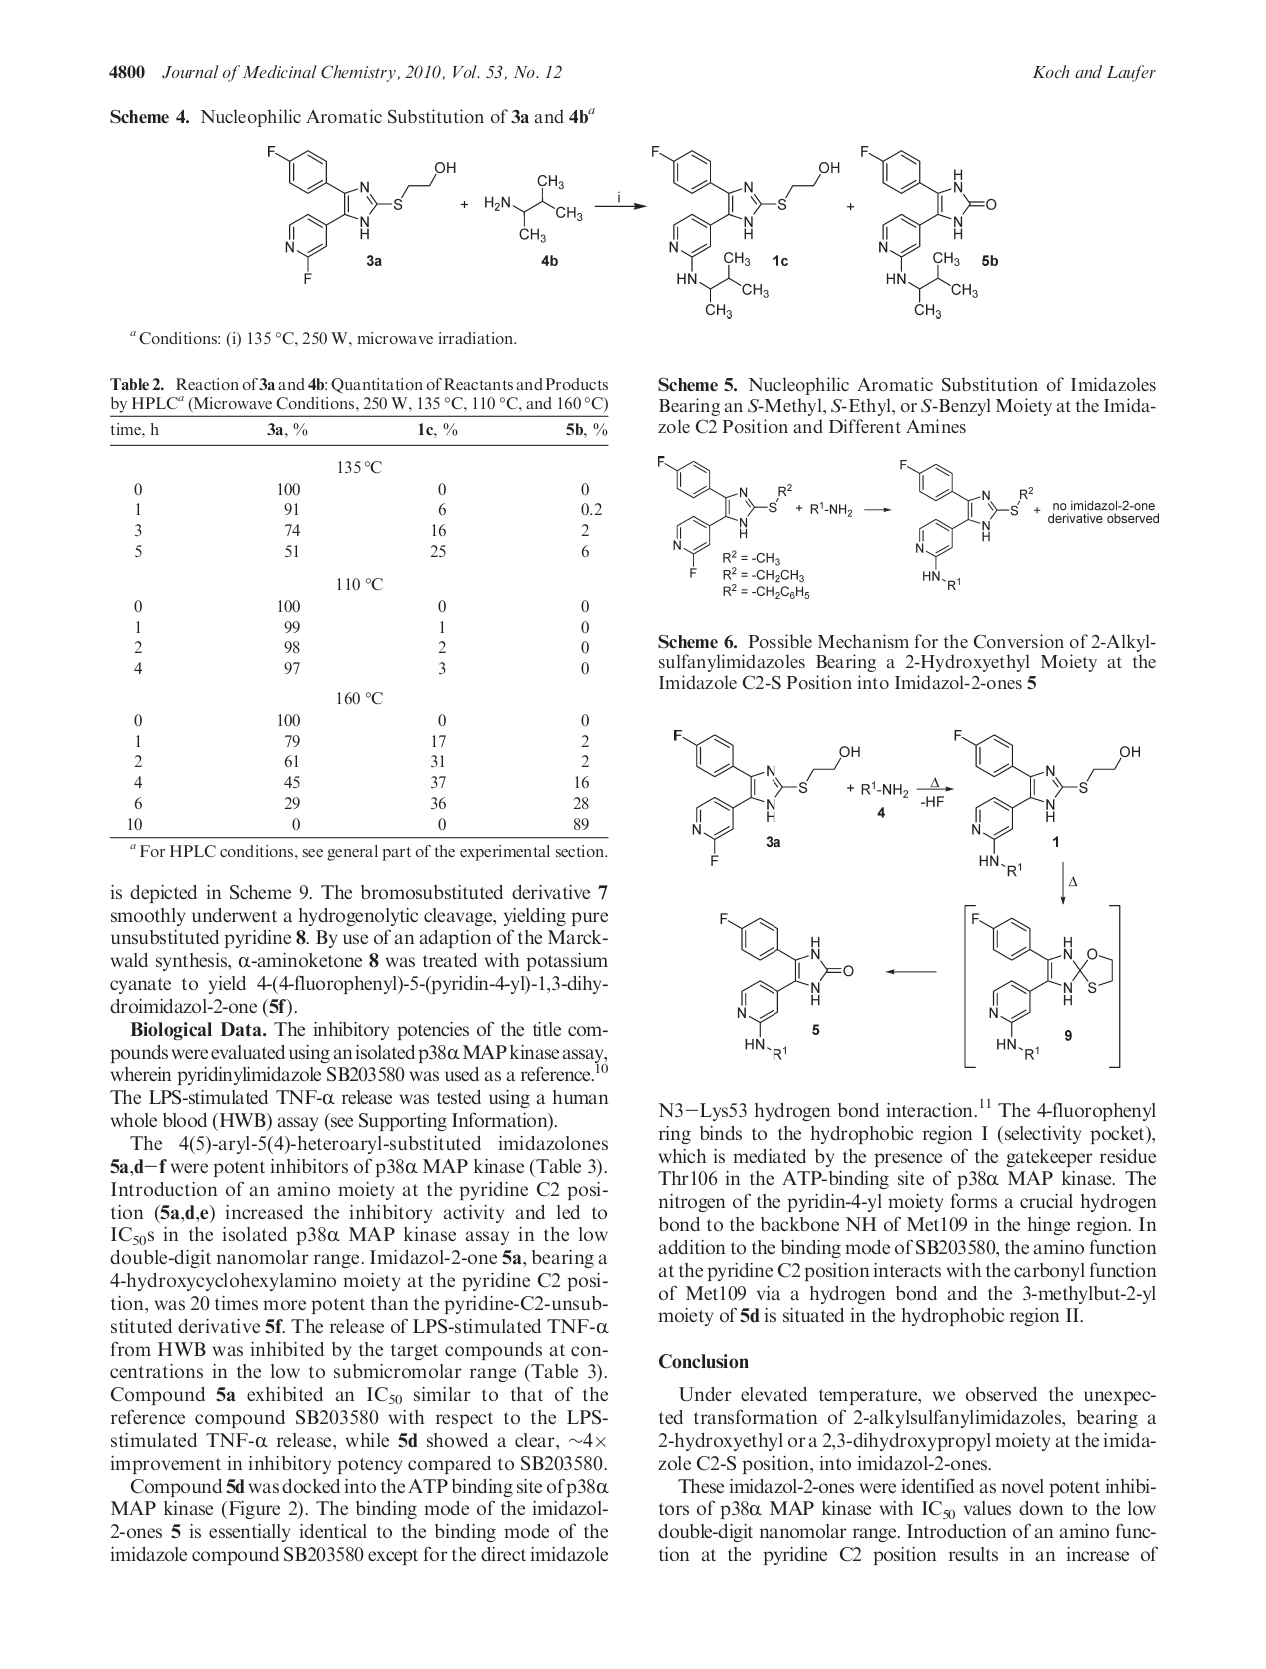exist_molecular: (646, 138, 846, 319), (946, 719, 1142, 876), (257, 138, 459, 289), (852, 140, 1008, 324), (672, 719, 866, 864), (714, 900, 863, 1063), (968, 908, 1120, 1064), (892, 451, 1037, 590), (652, 448, 797, 584), (480, 170, 589, 255)
